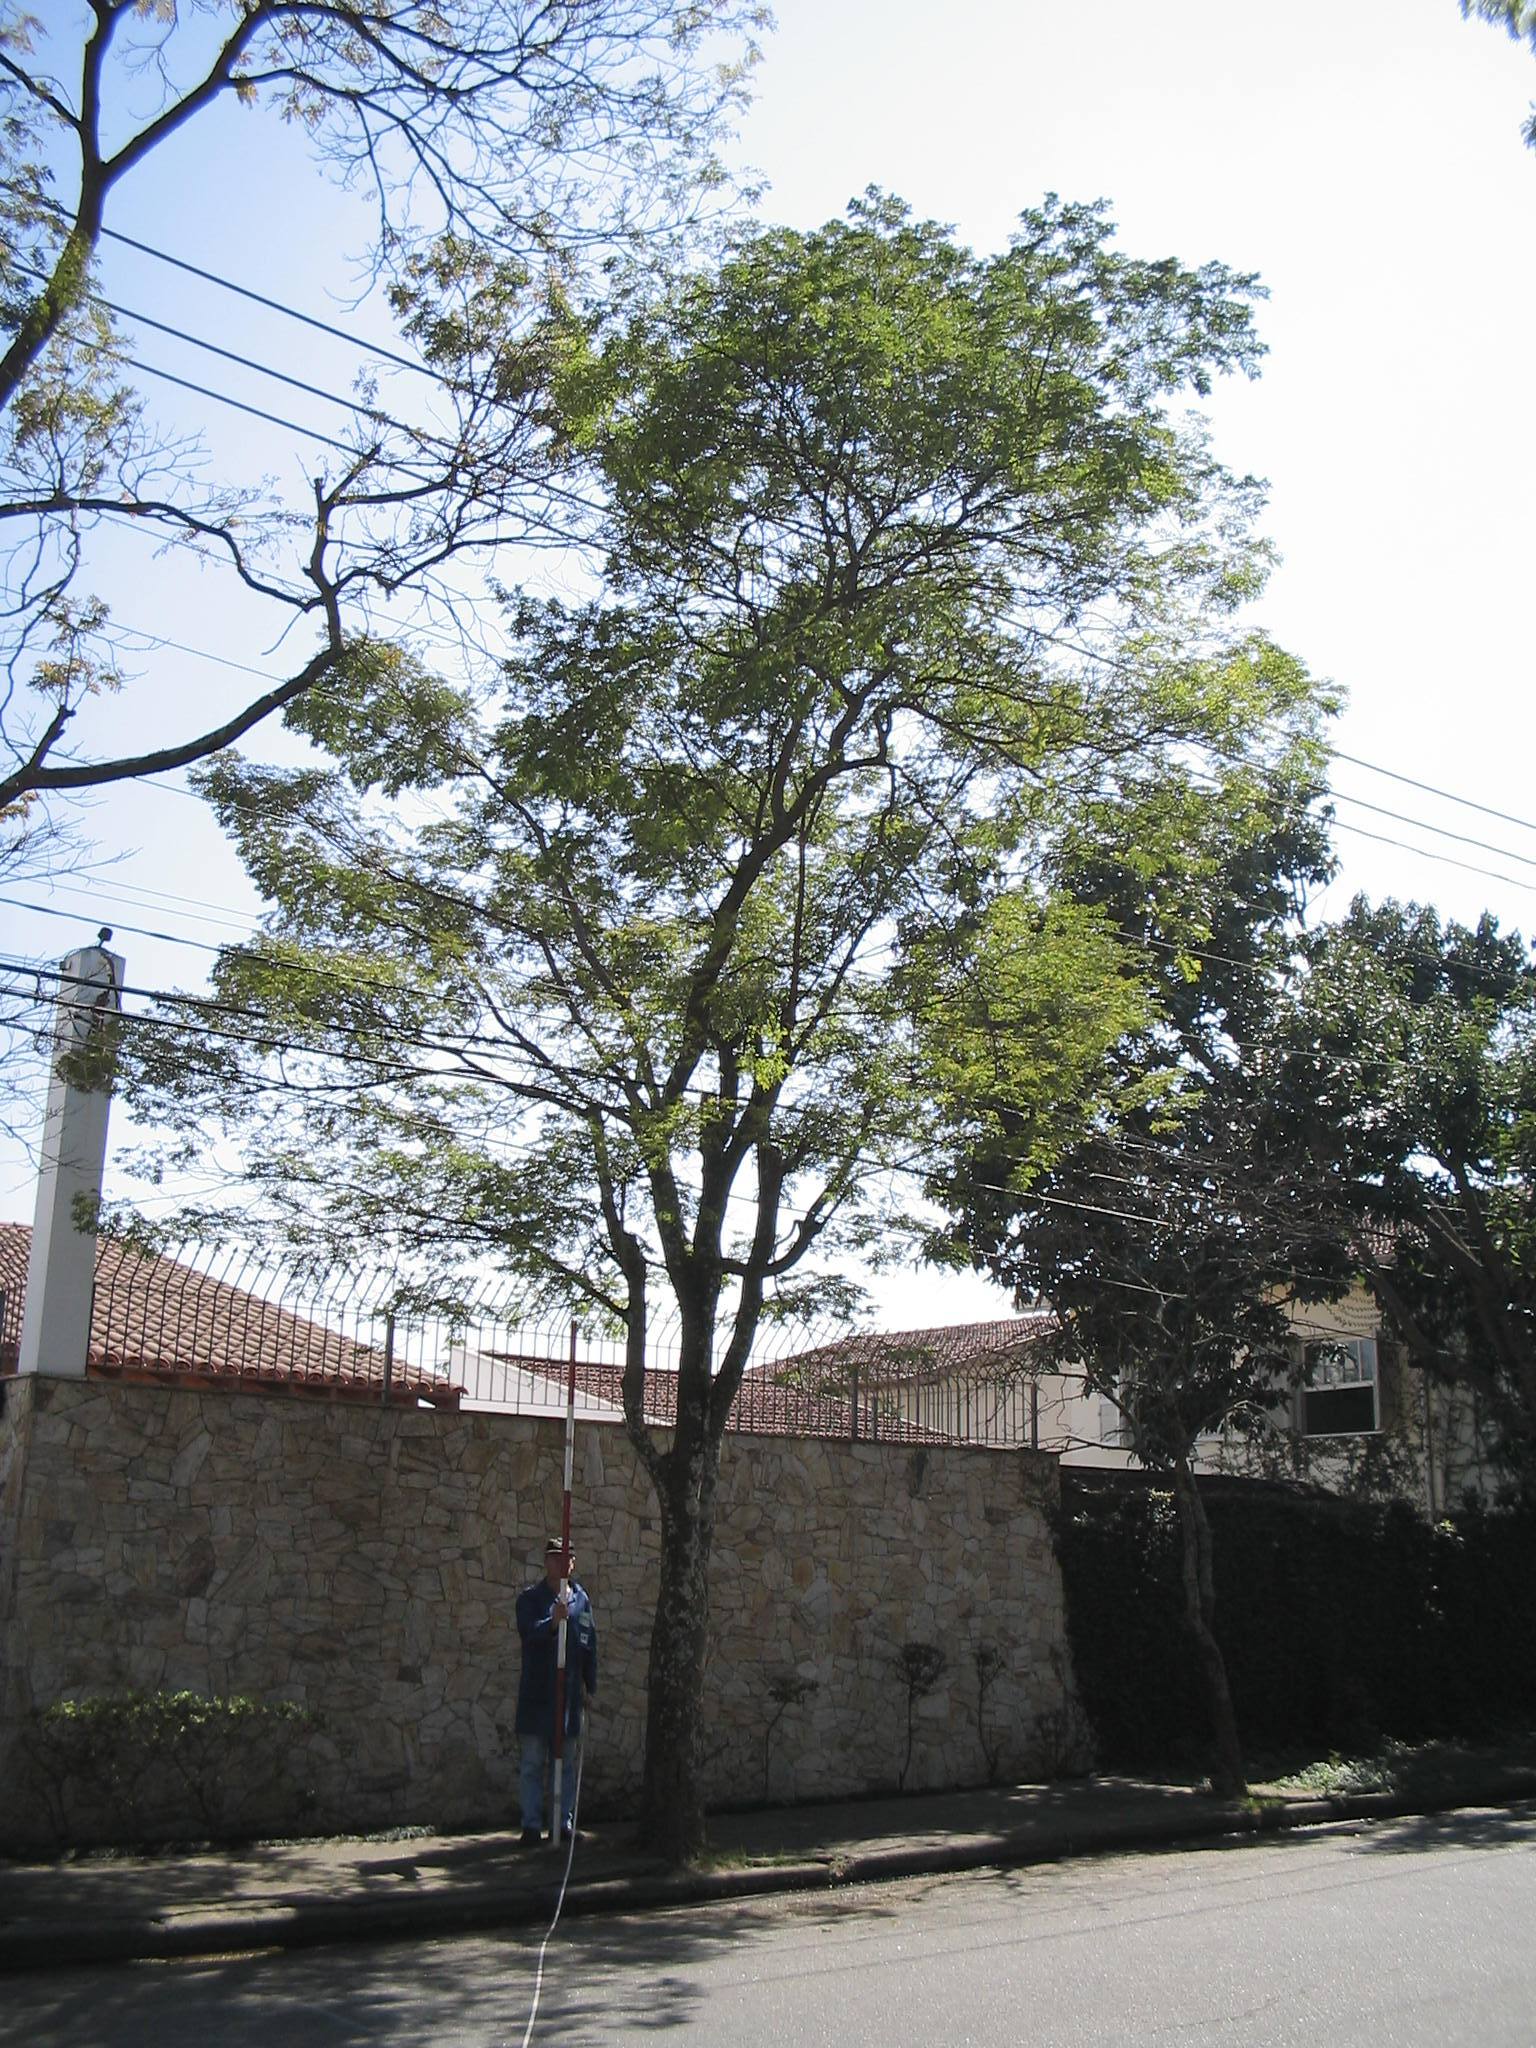crown: (111, 245, 1333, 1347)
stem: (594, 1484, 762, 1863), (1136, 1482, 1281, 1790)
stick: (526, 1321, 603, 1850)
tree: (106, 232, 1333, 1863), (944, 921, 1520, 1796)
